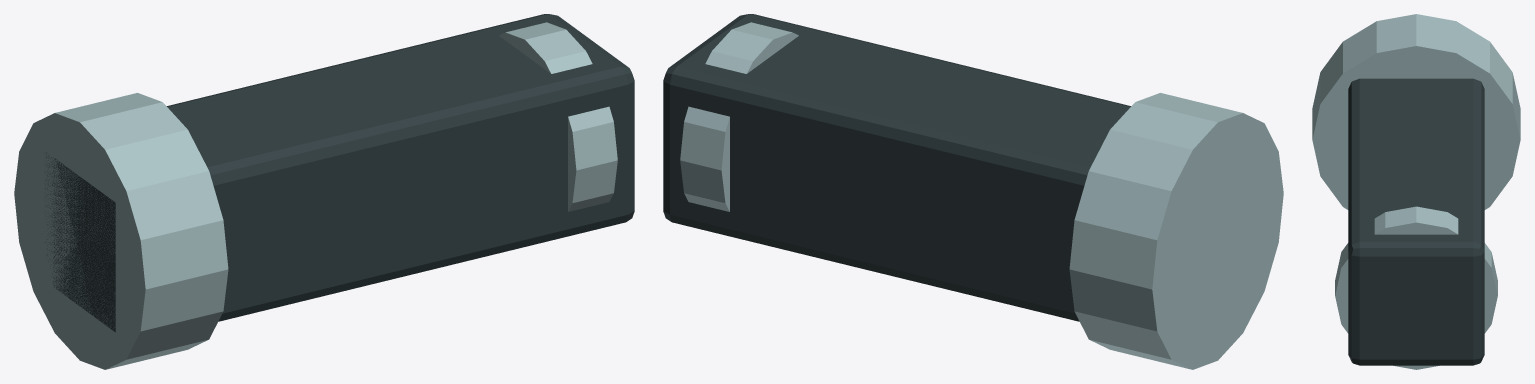
Rendered from upper_arm.glb.
3 renders of one model, left to right at view 1: azimuth 30°, elevation 25°; view 2: azimuth 150°, elevation 25°; view 3: azimuth 270°, elevation 25°, orthographic. The views are drawn at different scales.
Parts seen in each view (by area): view 1: beam, shoulder_axis, elbow_cap; view 2: beam, shoulder_axis, elbow_cap; view 3: beam, shoulder_axis, elbow_cap.
Part boxes in pixels (x1,y1,x2,y2): beam: (45,14,634,332); shoulder_axis: (14,93,228,369); elbow_cap: (499,22,617,211); beam: (663,14,1131,321); shoulder_axis: (1069,93,1283,369); elbow_cap: (680,22,798,211); beam: (1348,78,1484,365); shoulder_axis: (1312,14,1520,209); elbow_cap: (1335,206,1497,369).
Size of the model in its own units: 0.25 by 0.11 by 0.11.
